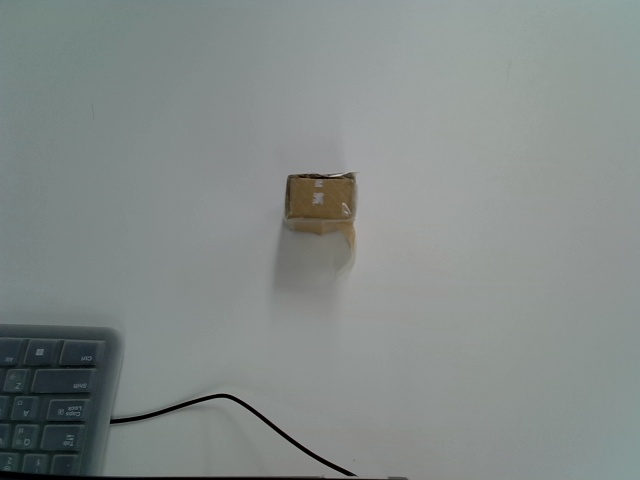defect: (282, 171, 365, 263)
